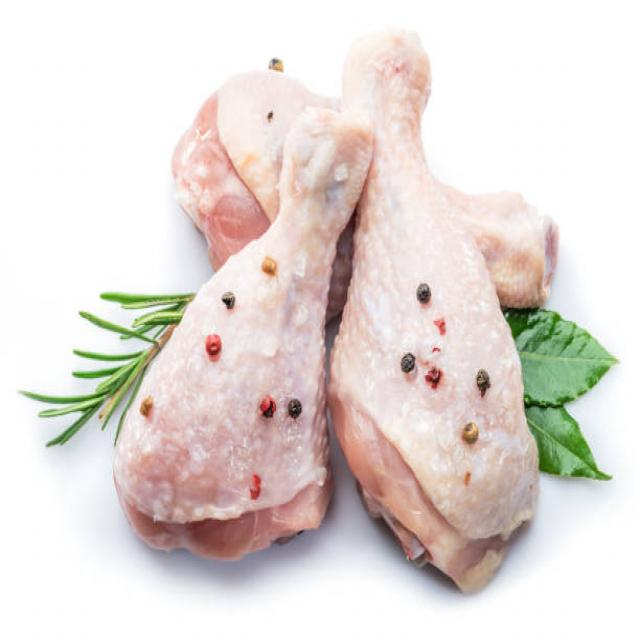Chicken: (127, 110, 366, 572), (351, 29, 546, 581)
